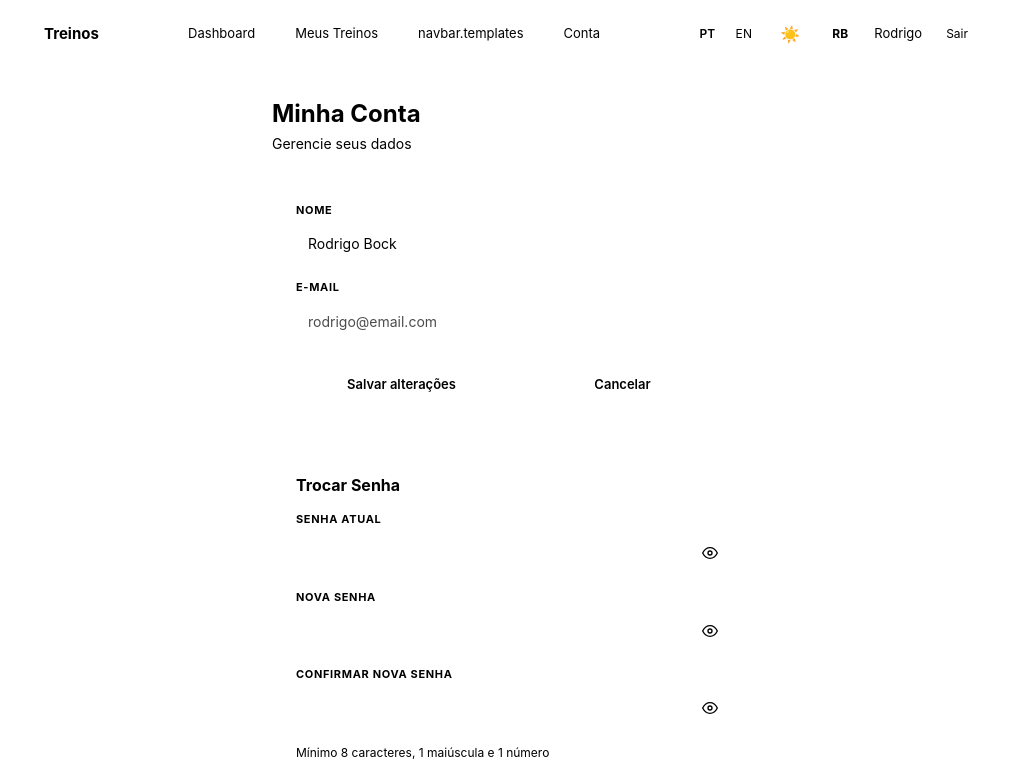
Test: exibe mensagem de erro quando a API falha
What coordinates should you click on to do the following:
click the button "Salvar alterações"
I would click on:
 (402, 385)
Its box is [296, 365, 507, 404].
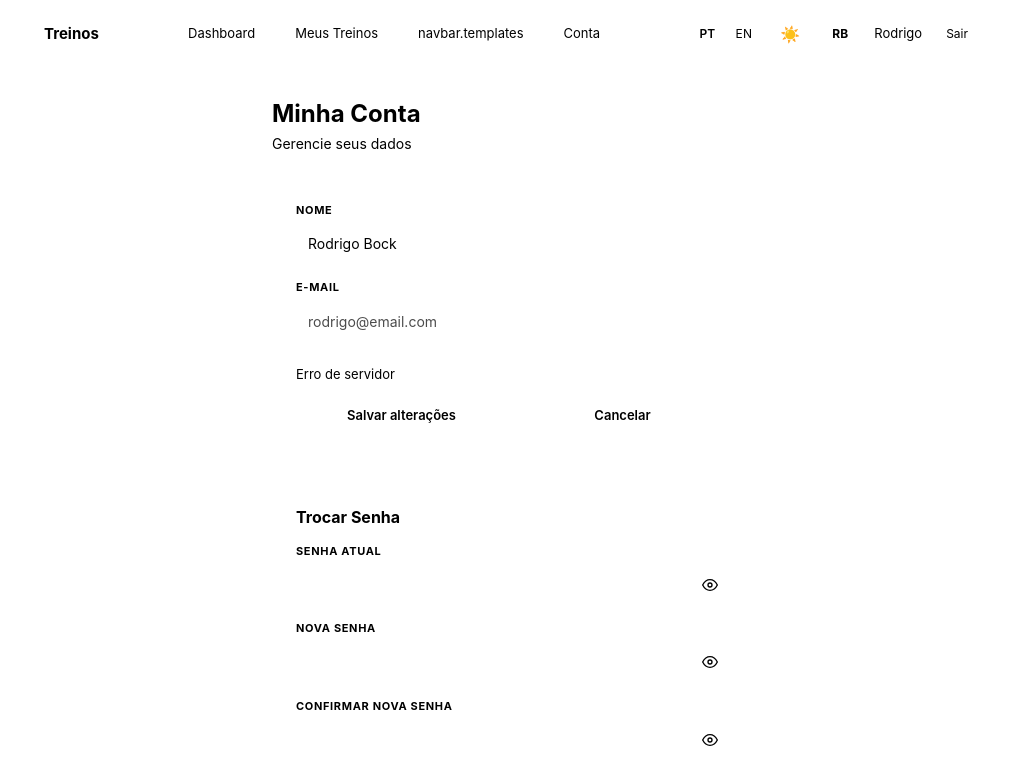
Expected: the text "Erro de servidor" is shown, [296, 366, 395, 382]
